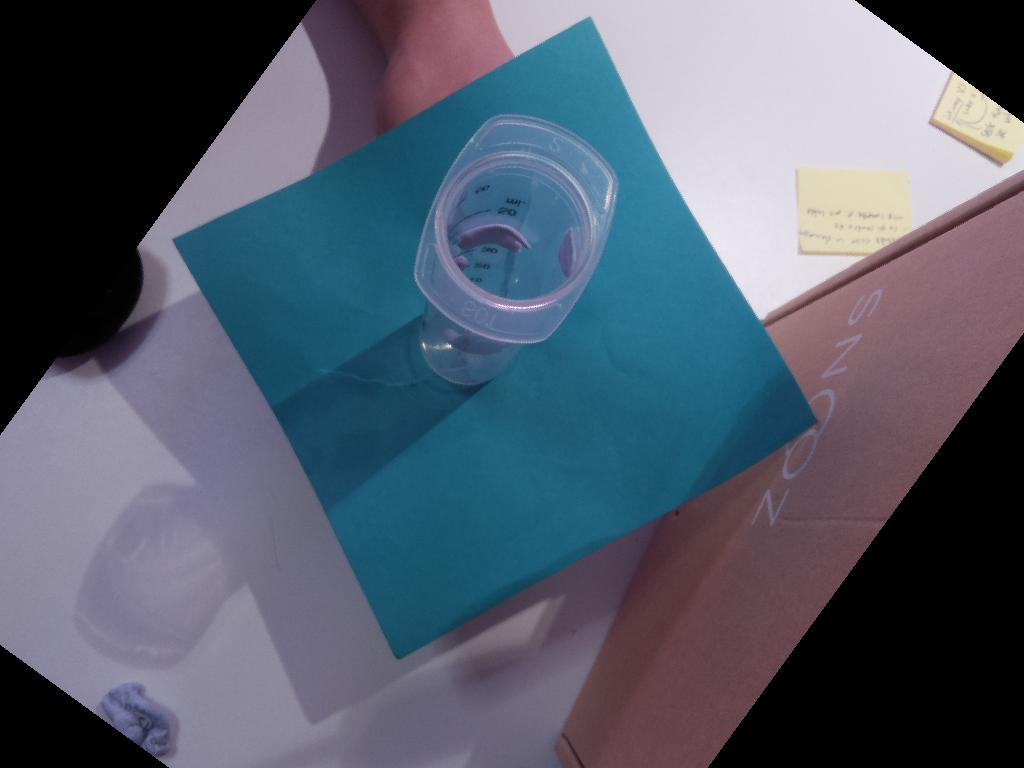dirty: (414, 113, 617, 345)
